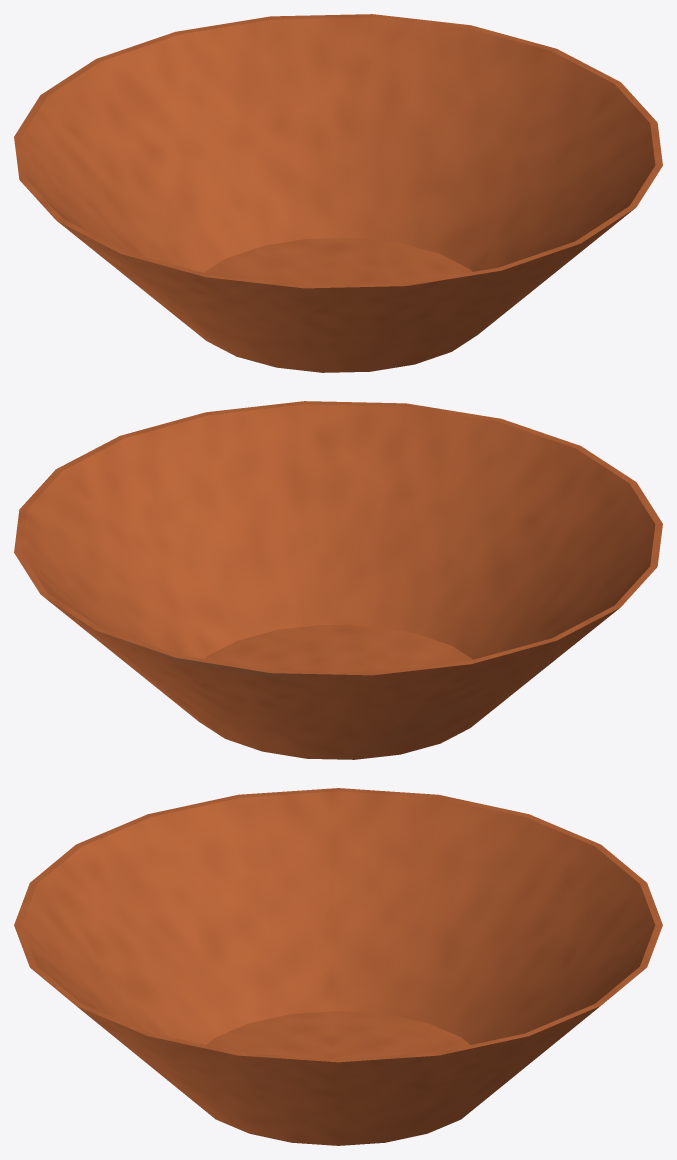
Rendered from bor3.fbx.
3 renders of one model, top to bottom at view 1: azimuth 30°, elevation 25°; view 2: azimuth 150°, elevation 25°; view 3: azimuth 270°, elevation 25°, orthographic.
Parts seen in each view (by area): view 1: BezierCurve.007; view 2: BezierCurve.007; view 3: BezierCurve.007.
Boxes of the visible parts, x1,y1,x2,y2 form: BezierCurve.007: (14,14,662,372); BezierCurve.007: (14,401,662,759); BezierCurve.007: (14,788,662,1145).
Bounding box in the file's own units: 428 × 114 × 428.
